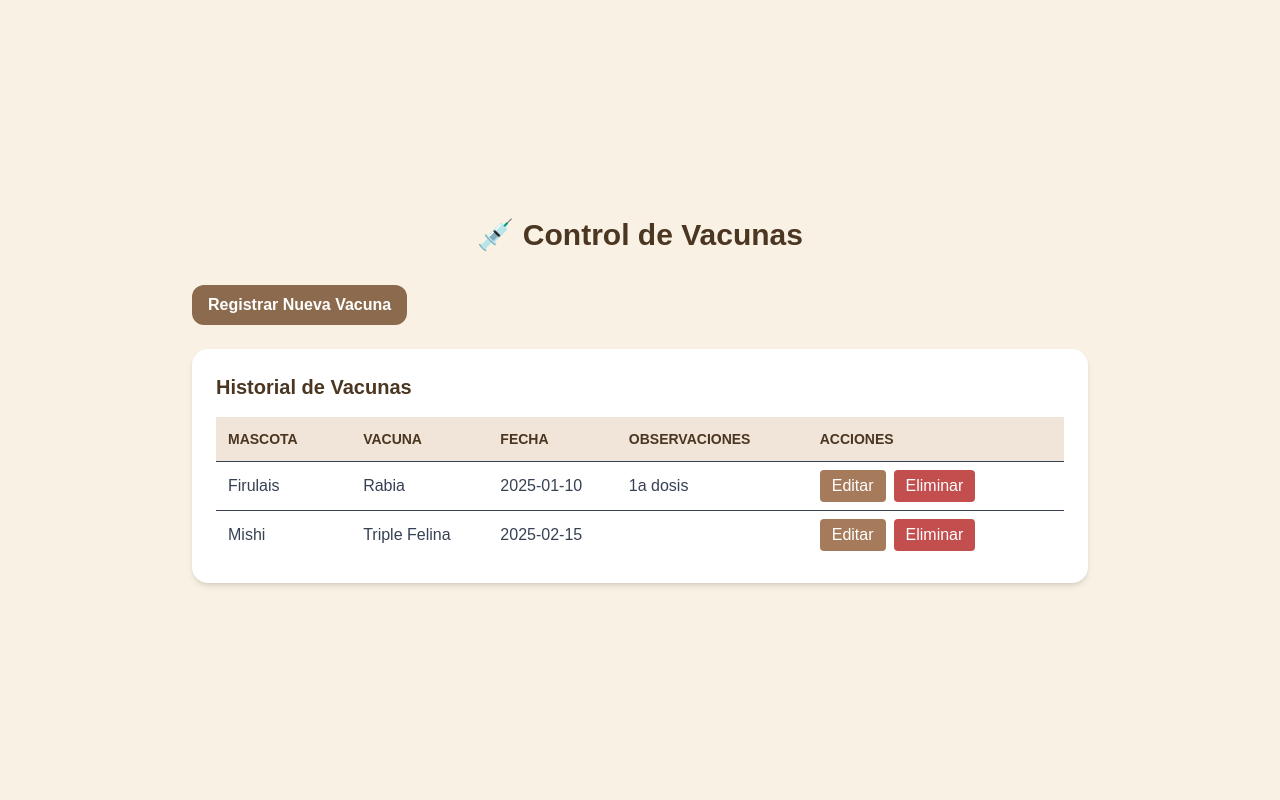
it: VacunasPage › abre el modal de edición, actualiza la vacuna y refresca
This screenshot has width=1280, height=800.
espera a que aparezca la celda con “Rabia”
Click the button "Editar" in the row of "Firulais" at (853, 486), box [820,470,886,502]
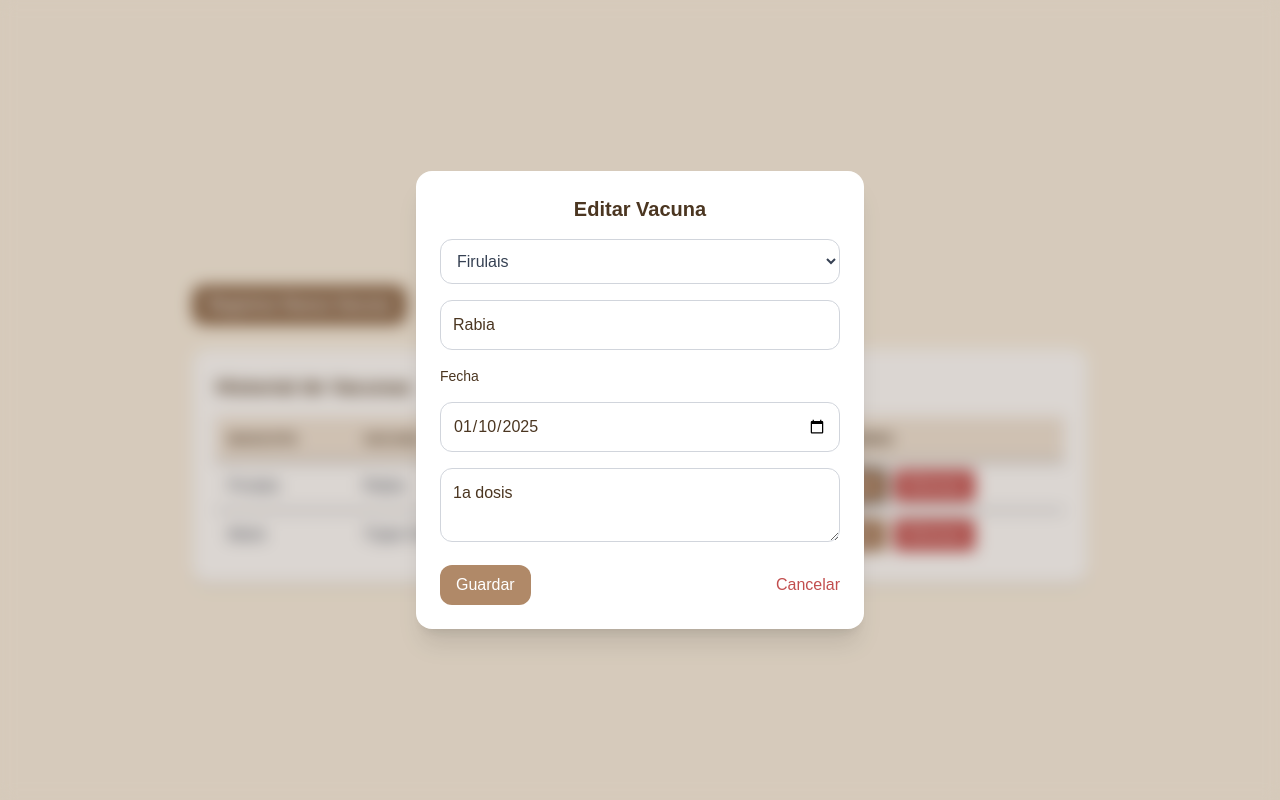
Result: the heading "Editar Vacuna" is shown at [574,198,706,220]
Cambiar nombre y fecha
Replace the text in the field showing "Rabia" with "Rabia Refuerzo" at (640, 325), box [440,300,840,350]
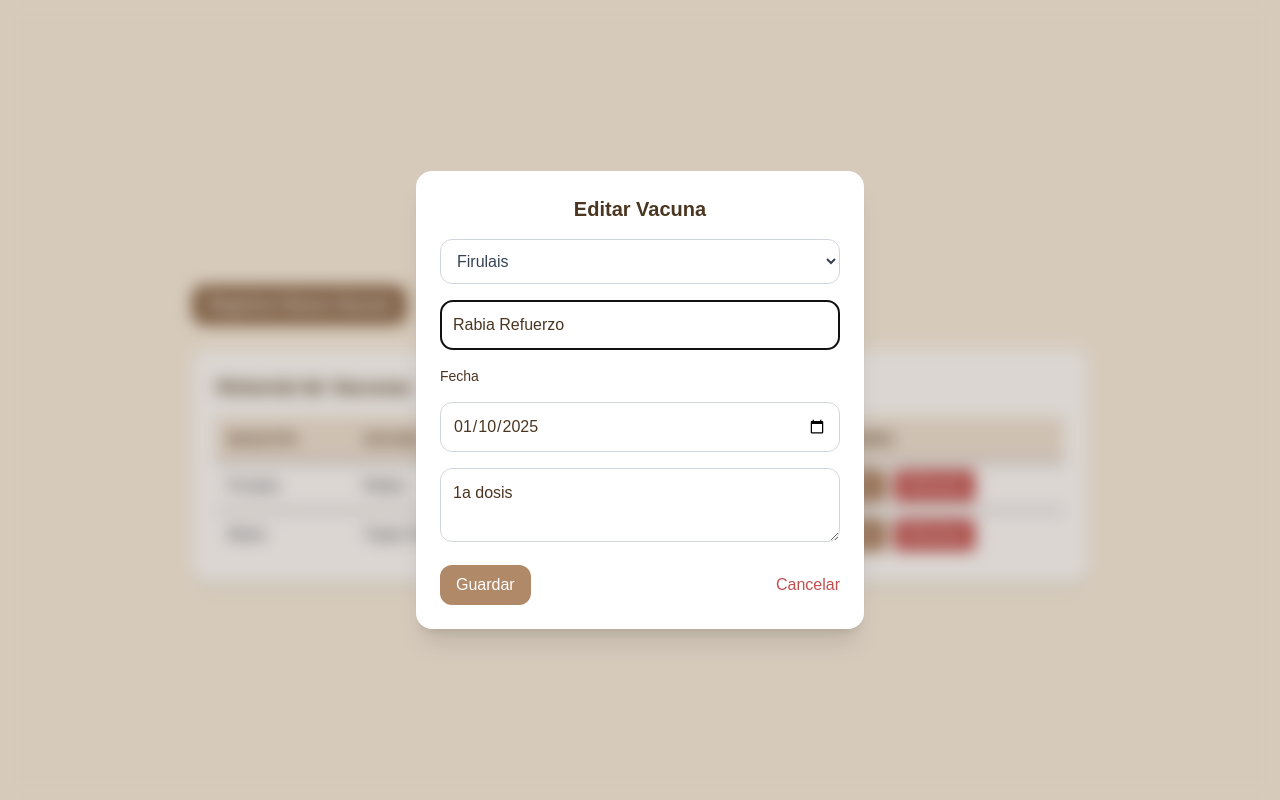
Type "2025-03-01" into the date field labelled "Fecha" at (640, 427), box [440,402,840,452]
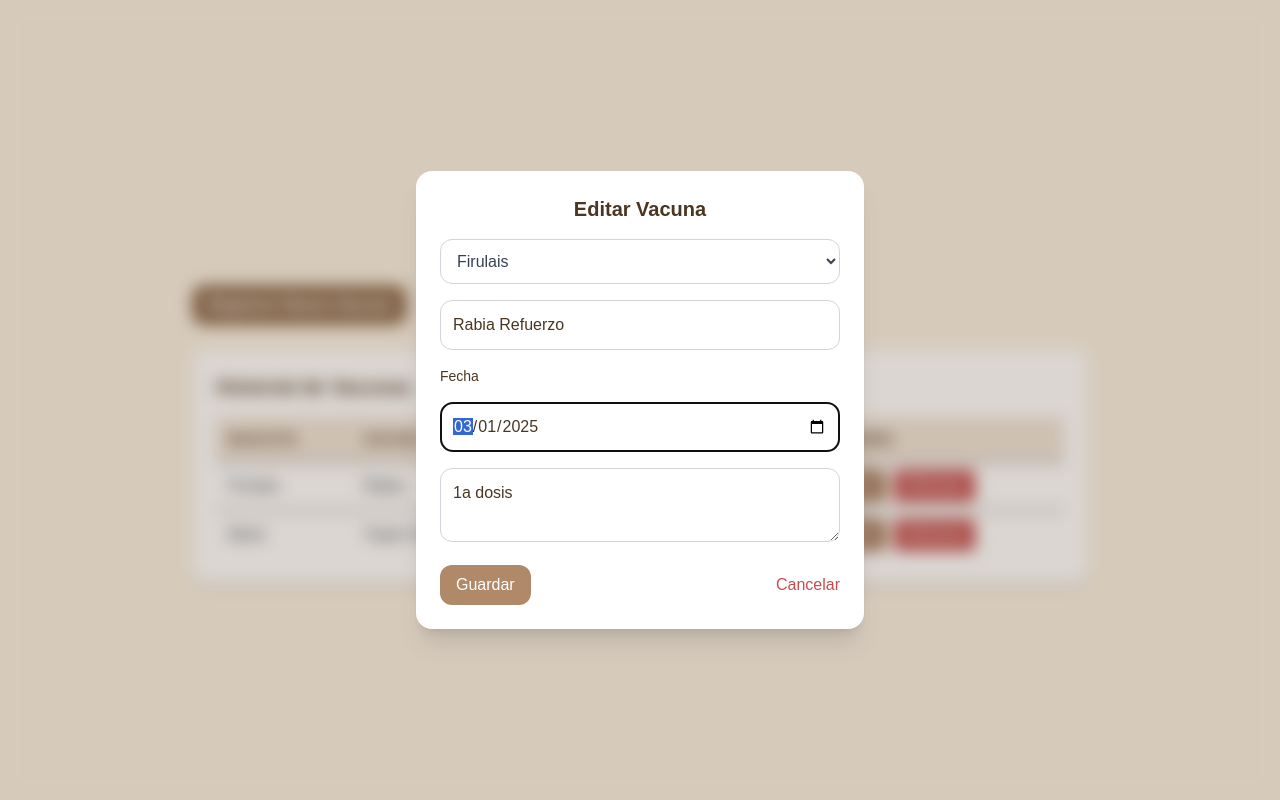
Click the button "Guardar" at (485, 585), box [440,565,531,605]
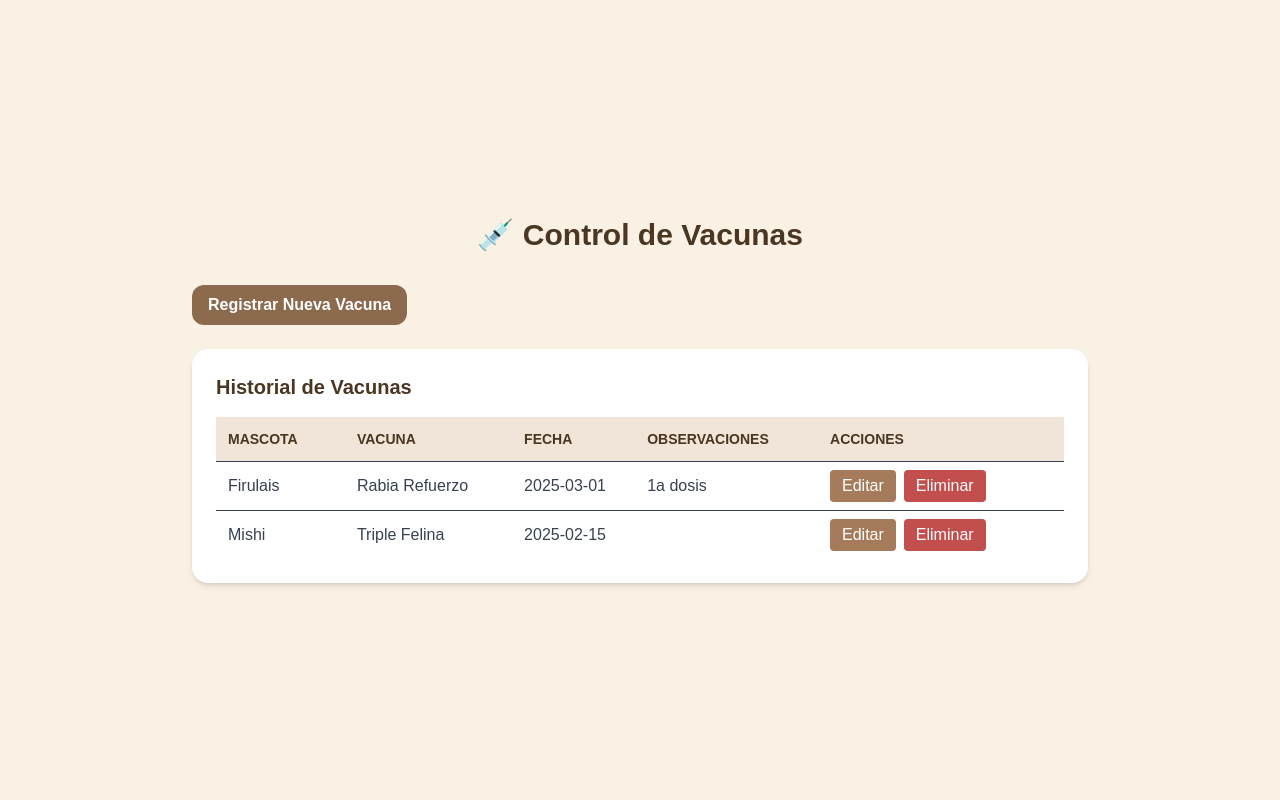
Result: the heading "Editar Vacuna" is gone
Result: the text "Rabia Refuerzo" is shown at [357,462,524,510]
